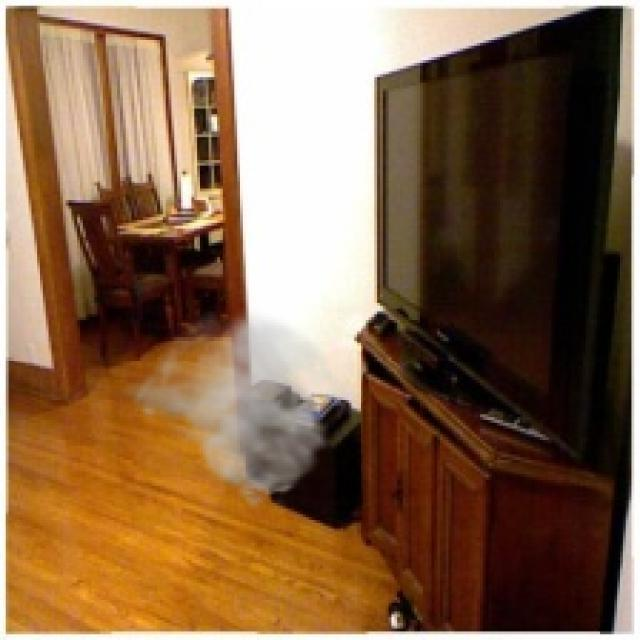Smoke: (117, 306, 349, 512)
